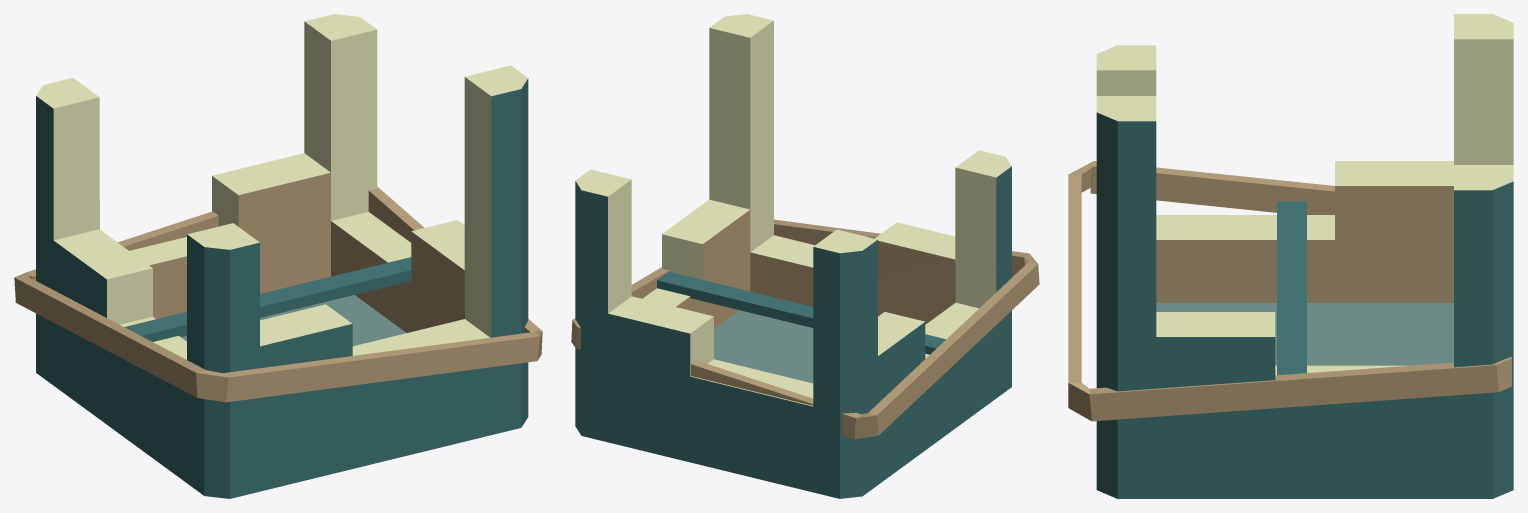
File: ModuloBaseRoto.fbx
3 renders of one model, left to right at view 1: azimuth 30°, elevation 25°; view 2: azimuth 150°, elevation 25°; view 3: azimuth 270°, elevation 25°, orthographic. The views are drawn at different scales.
Parts seen in each view (by area): view 1: Cube.128, Cube.132, Cube.129; view 2: Cube.128, Cube.132, Cube.129; view 3: Cube.128, Cube.132, Cube.129.
Part boxes in pixels (x1,y1,x2,y2): Cube.128: [36, 14, 528, 498]; Cube.132: [14, 187, 542, 402]; Cube.129: [124, 257, 411, 341]; Cube.128: [575, 14, 1011, 498]; Cube.132: [571, 219, 1039, 439]; Cube.129: [657, 271, 945, 354]; Cube.128: [1096, 14, 1513, 498]; Cube.132: [1068, 161, 1511, 421]; Cube.129: [1277, 201, 1306, 375].
Size of the model in its own units: 213 by 200 by 214.
